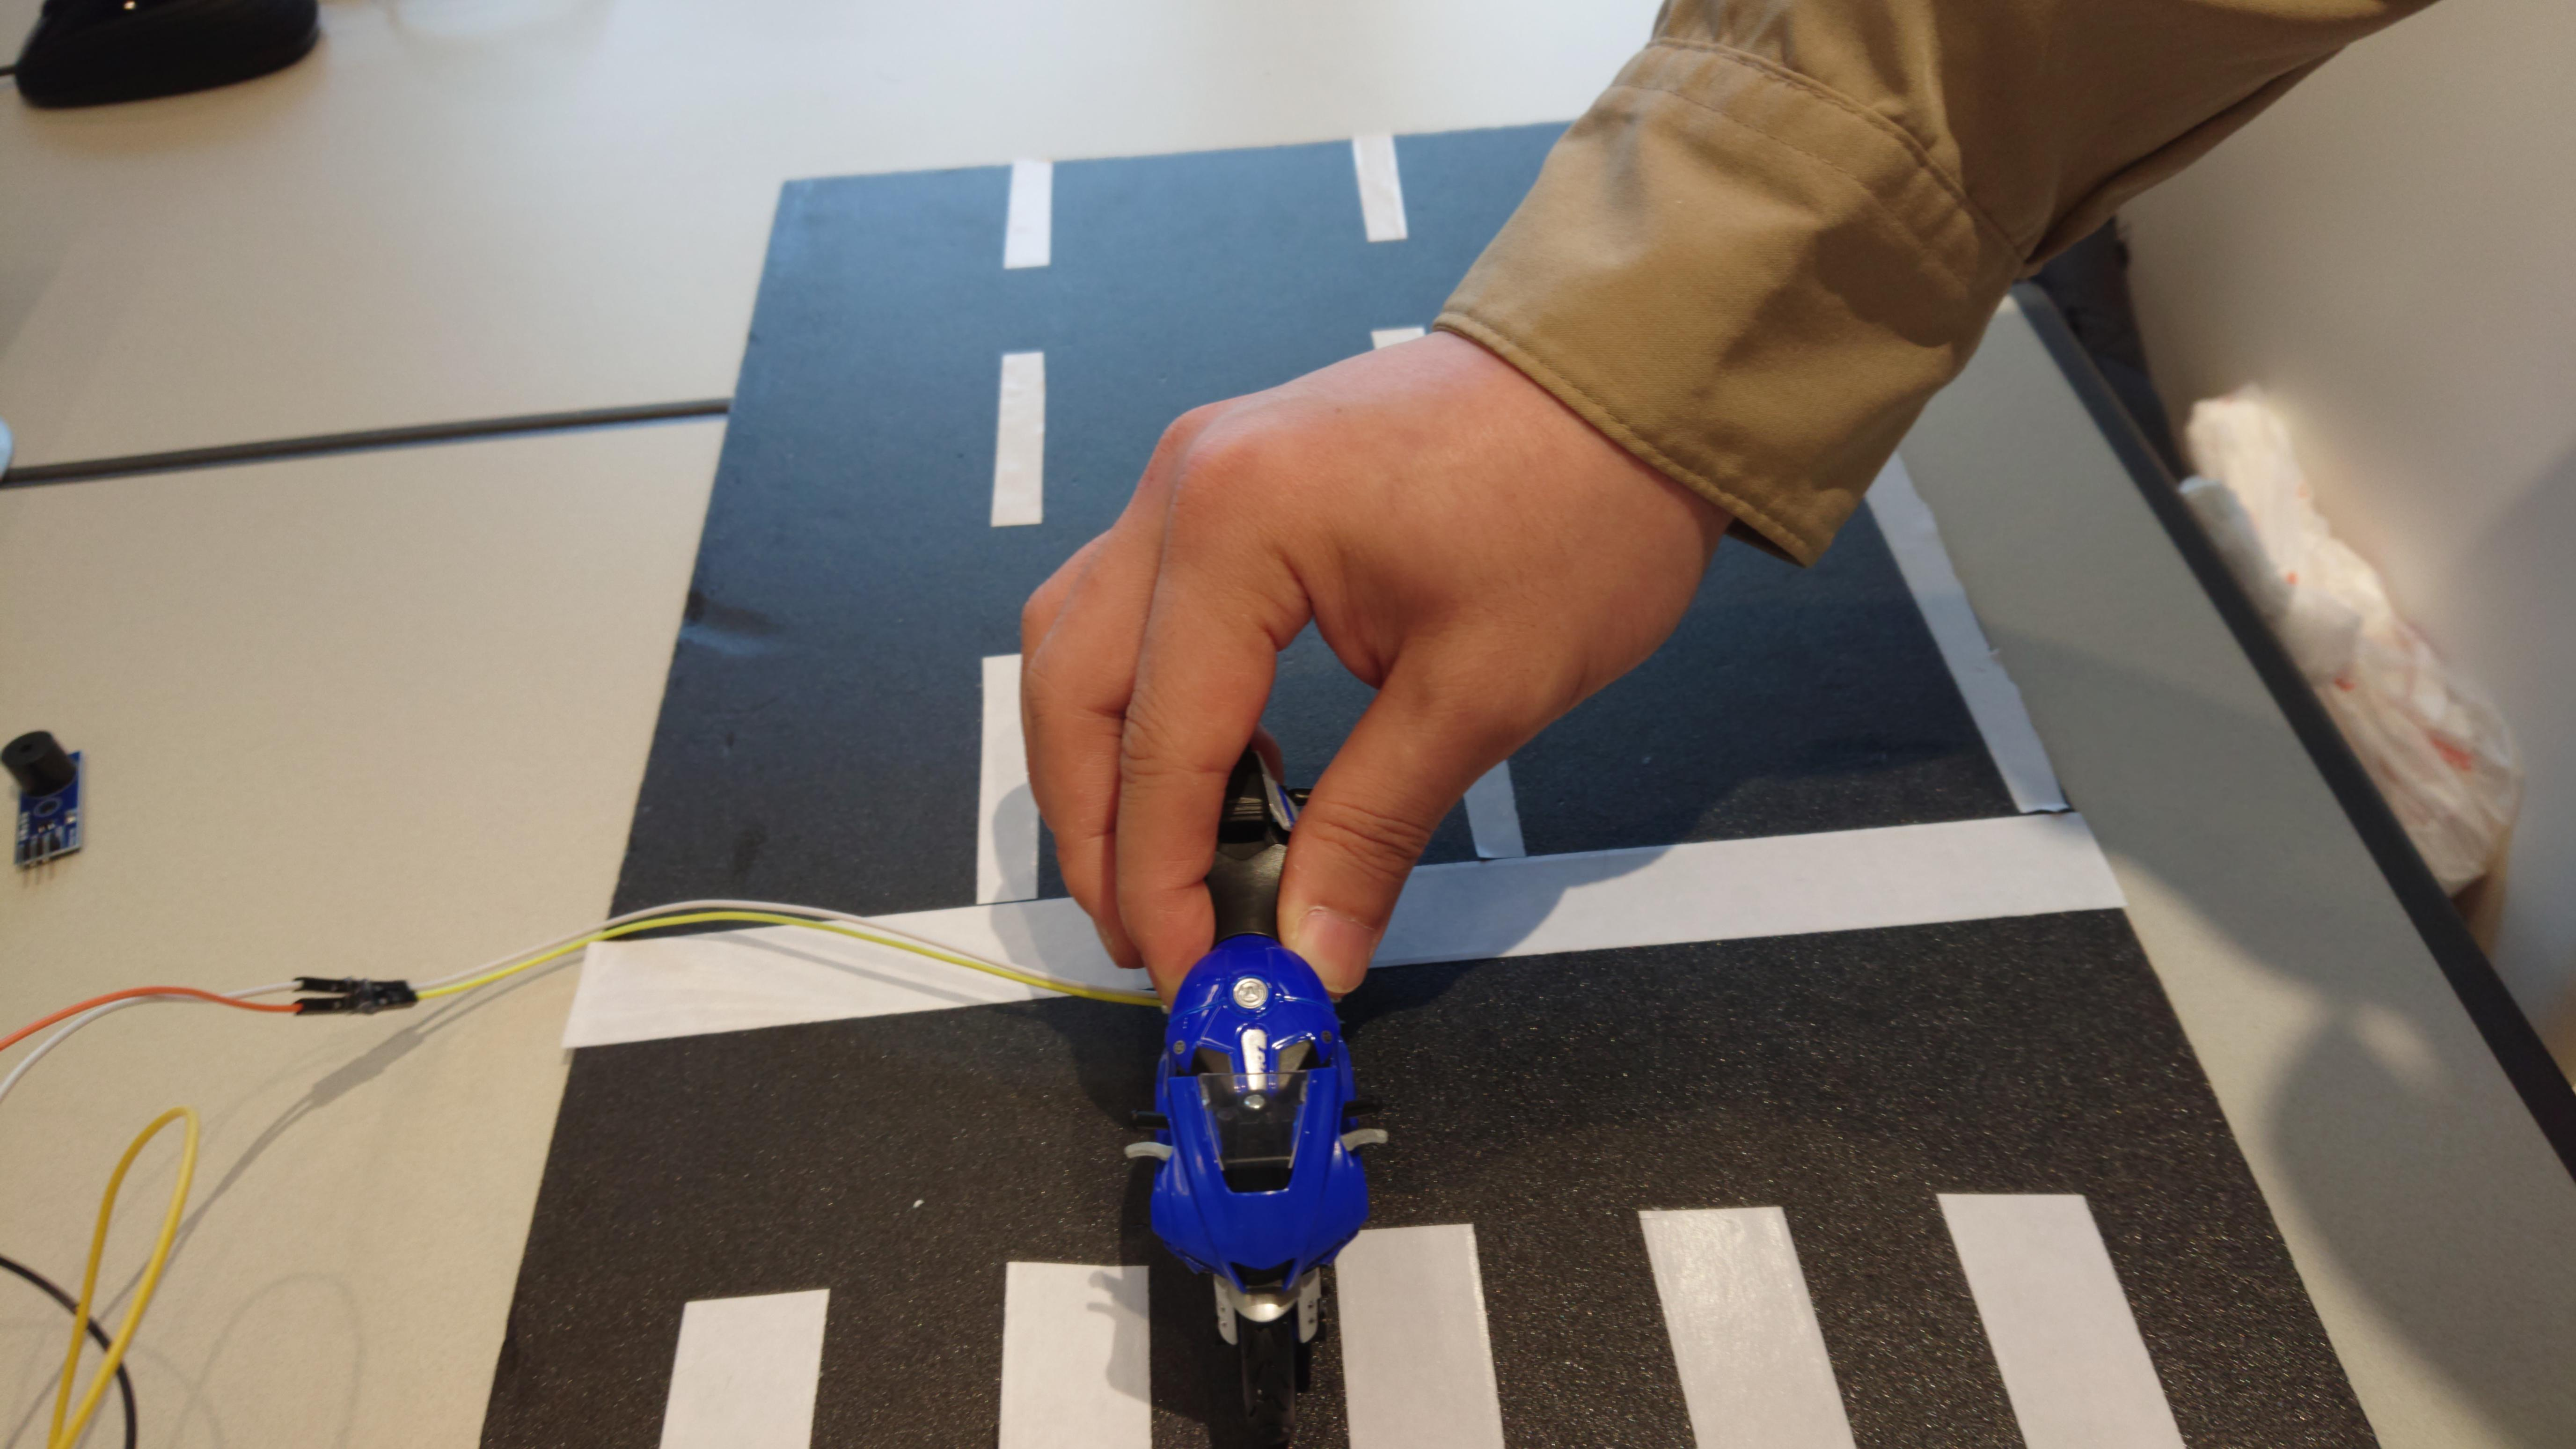Motorcycle: (1118, 717, 1401, 1401)
